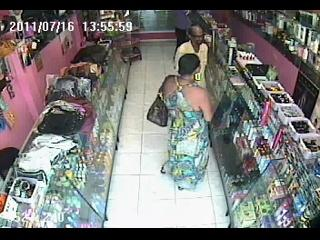Normal: (156, 54, 214, 190), (174, 26, 209, 76), (146, 95, 168, 128)
